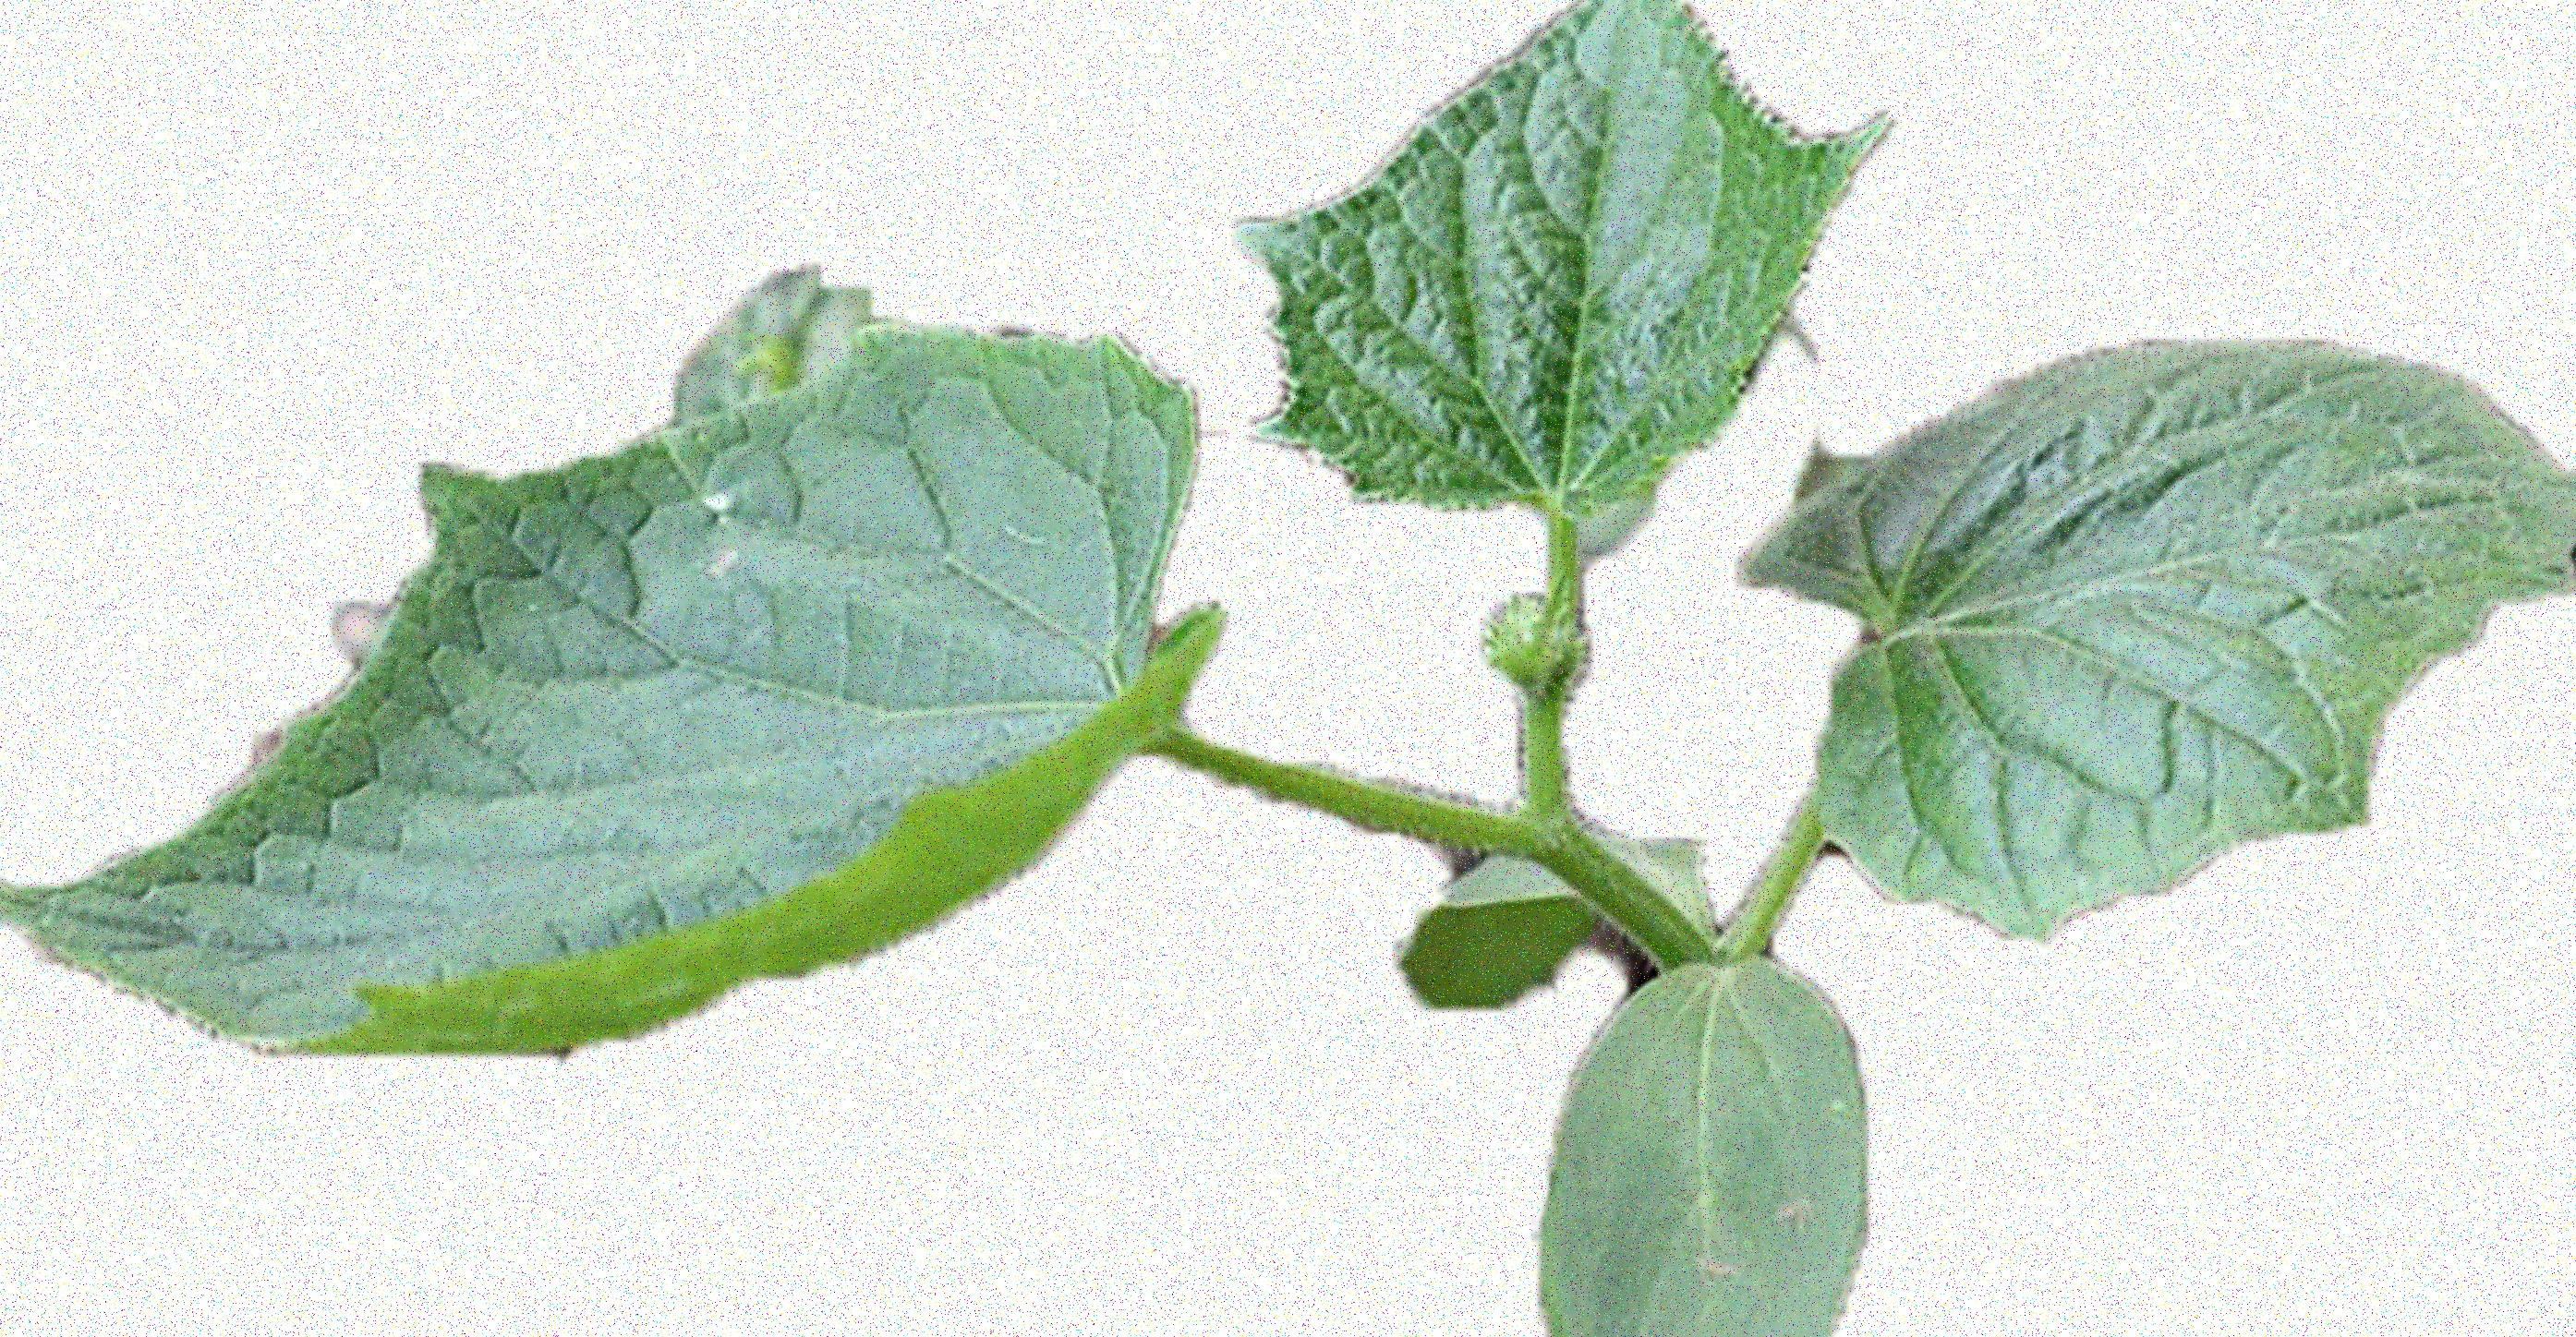cucumber_plant: (3, 2, 2574, 1046)
